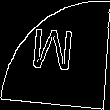M_S: (31, 27, 79, 82)
